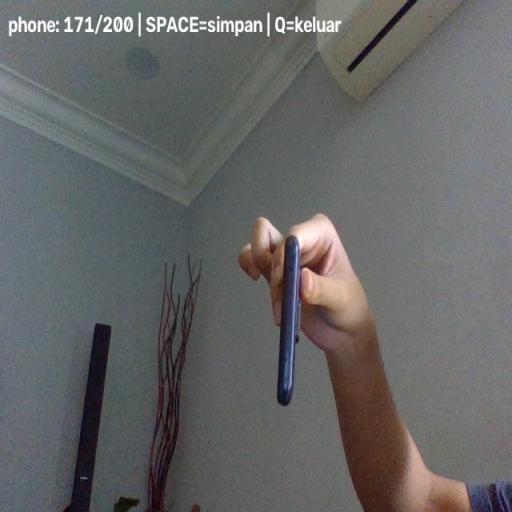Phone: (276, 235, 302, 405)
